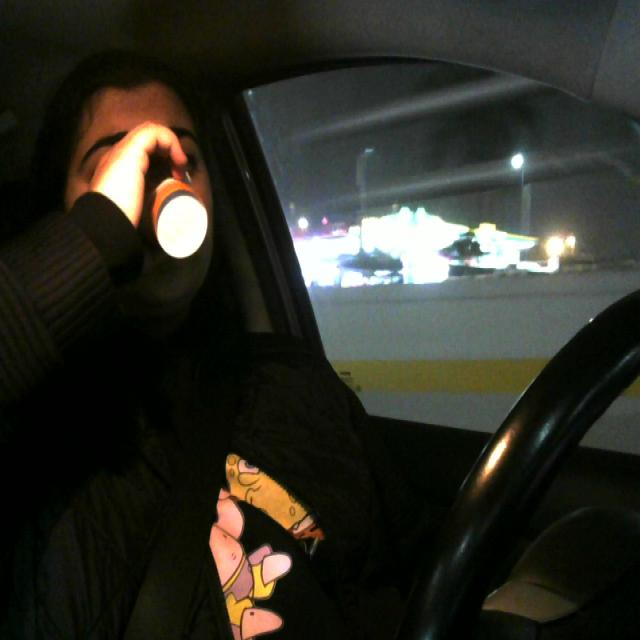drinking: (138, 135, 214, 262)
